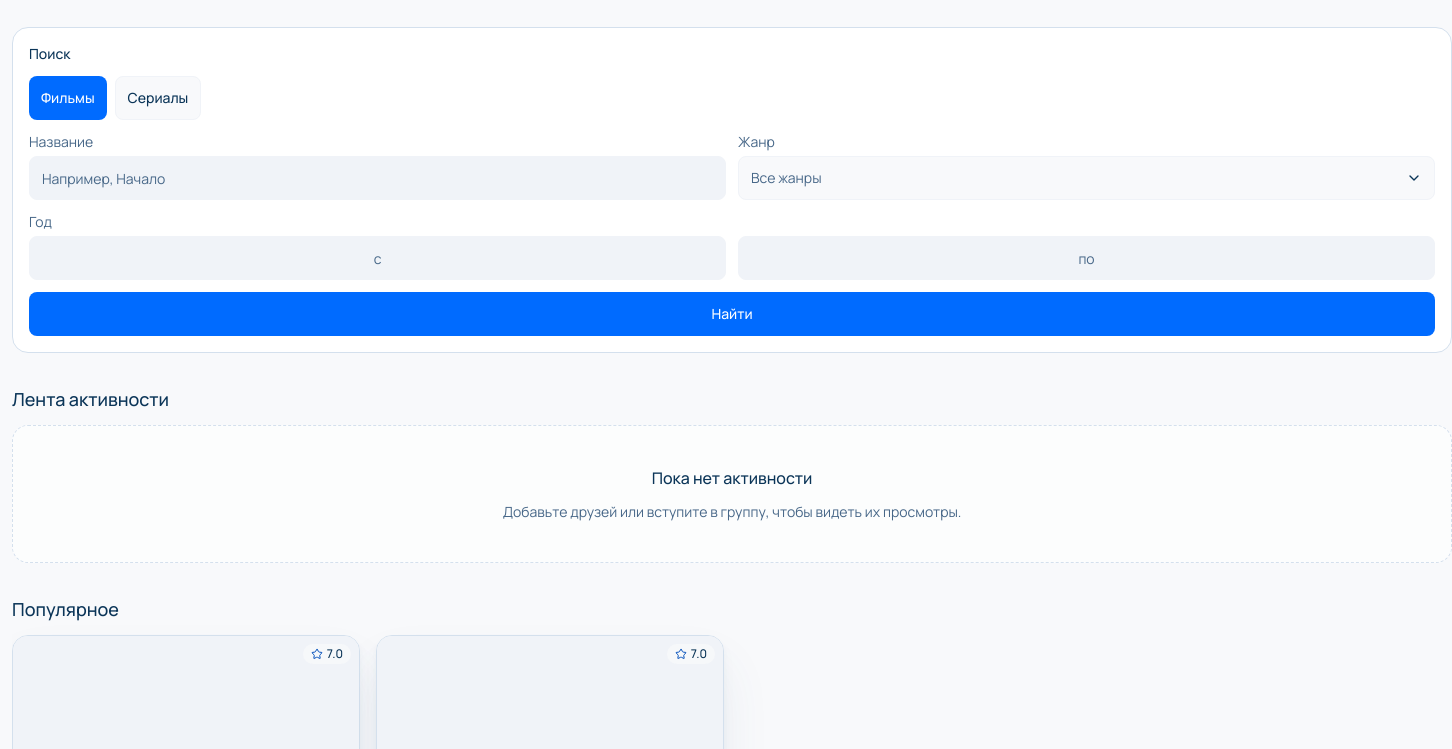
Test: HomeView › offers a kind selector that scopes the search
This screenshot has width=1452, height=749.
Click the button "Сериалы".
click(158, 98)  # box top-left (115, 76), bottom-right (201, 120)
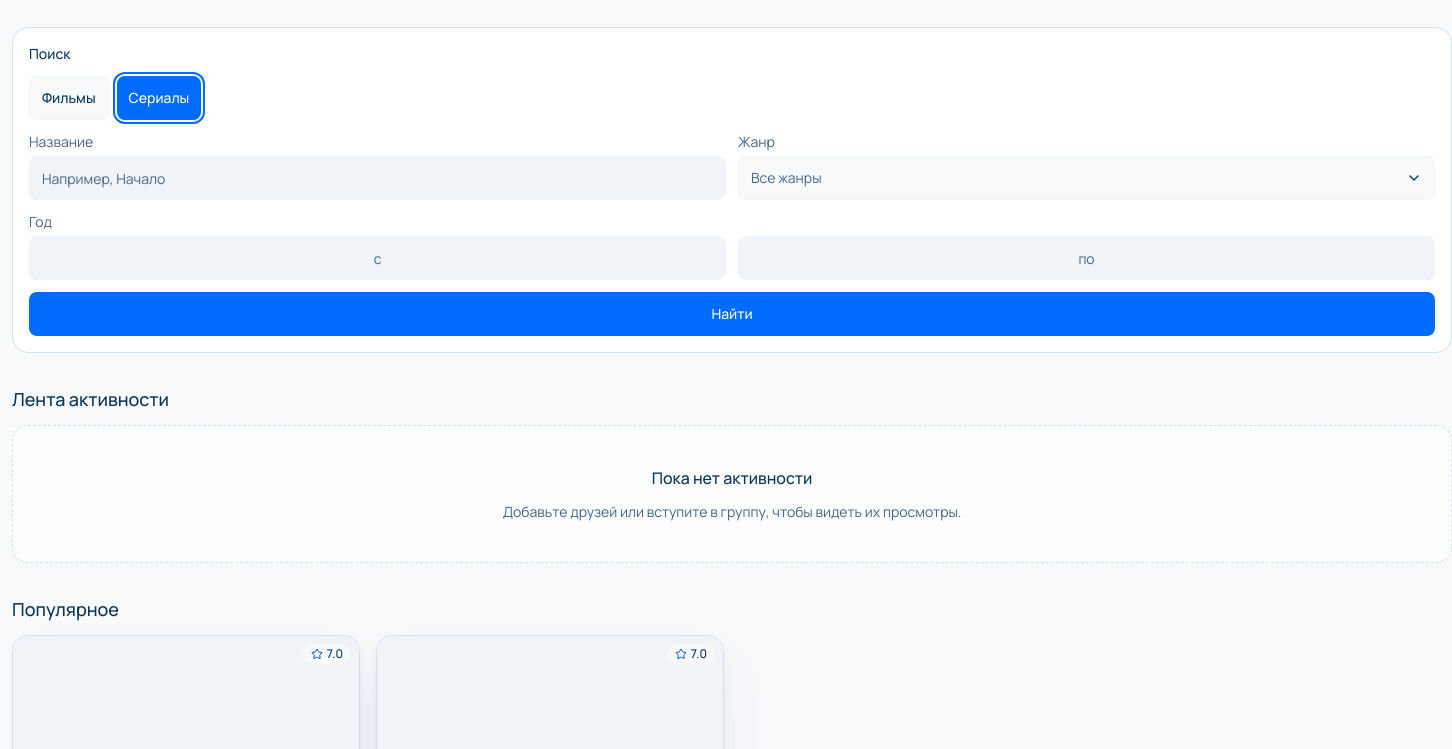
Click the button "Найти".
click(732, 314)  # box top-left (29, 292), bottom-right (1435, 336)
(page scrolled)
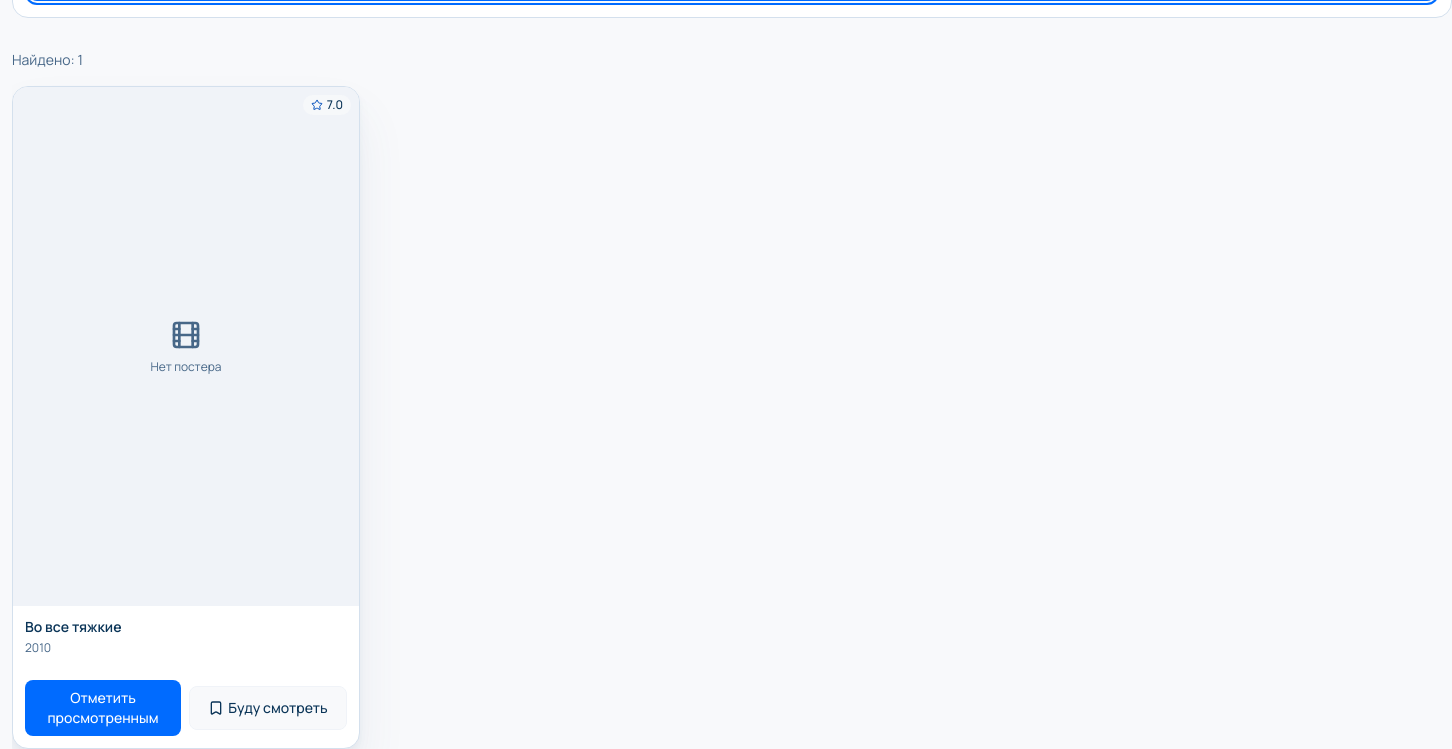
Expected: the heading "Во все тяжкие" is shown, top-left (25, 617), bottom-right (122, 636)
